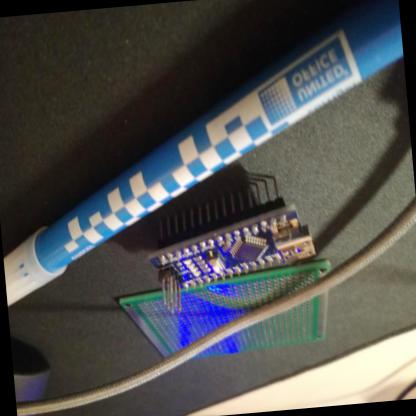Arduino_Nano: (141, 173, 324, 322)
